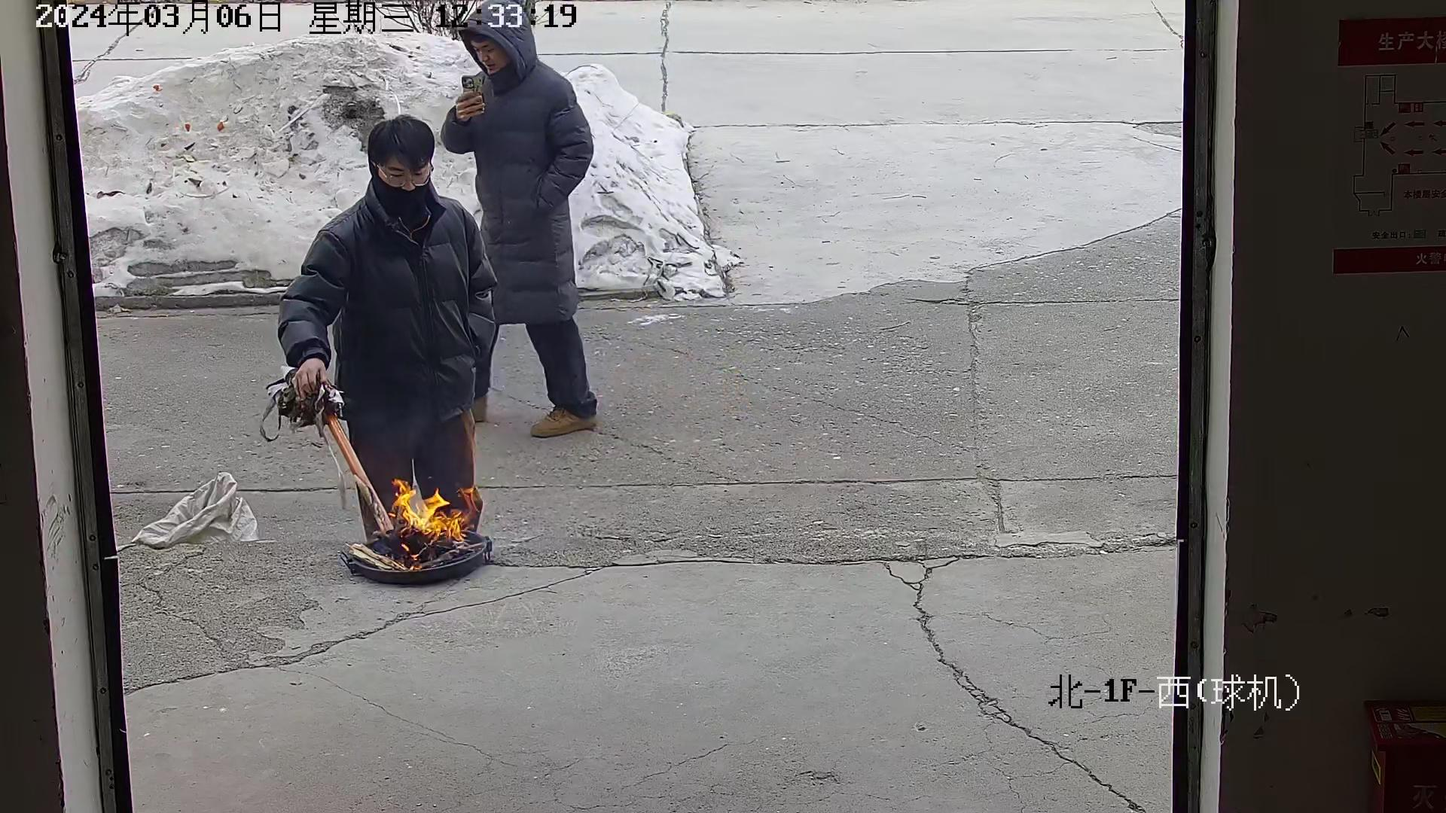fire: (389, 480, 482, 544)
